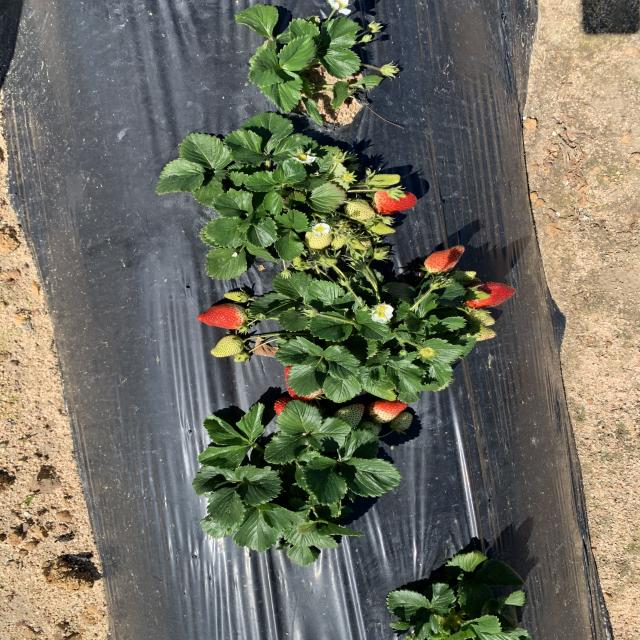unripe: (283, 366, 331, 400), (198, 302, 251, 330), (467, 281, 518, 309), (423, 243, 466, 276), (374, 188, 421, 215), (273, 398, 305, 424), (370, 401, 408, 421)
